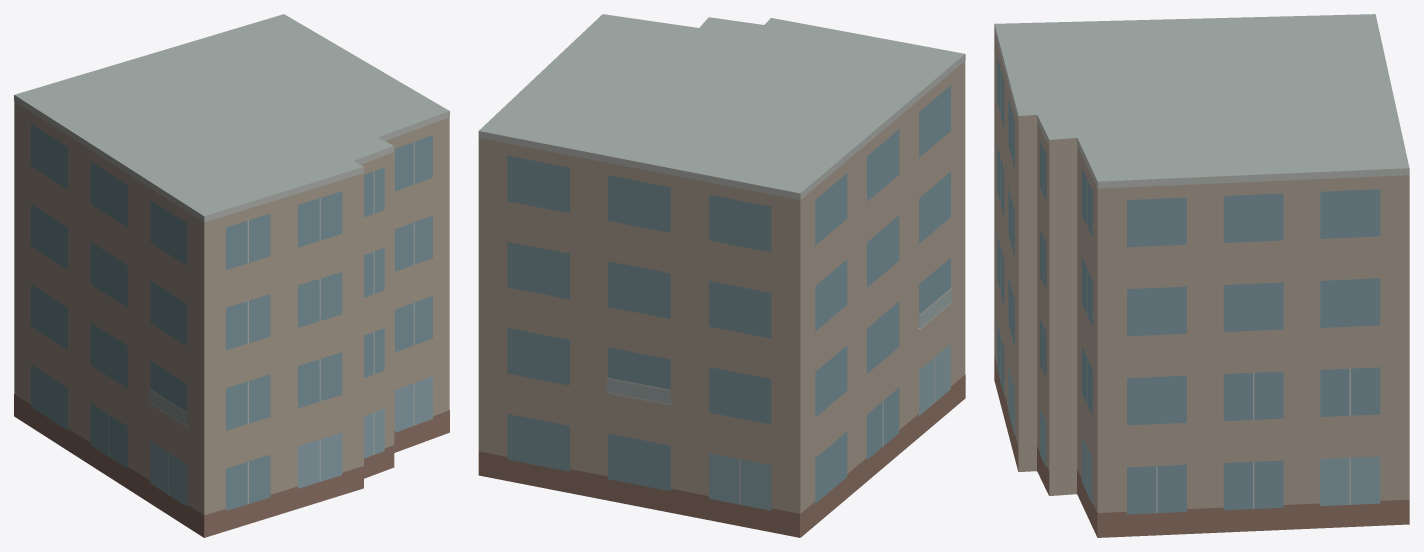
File: survey-upis-32630584.glb
3 views of the same model, side by side, from view 1: azimuth 30°, elevation 25°; view 2: azimuth 150°, elevation 25°; view 3: azimuth 270°, elevation 25° (orthographic). The views are drawn at different scales.
Visible parts, largest first — view 1: survey-upis-32630584.tmp; view 2: survey-upis-32630584.tmp; view 3: survey-upis-32630584.tmp.
Part boxes in pixels (x1=…): survey-upis-32630584.tmp: x1=14, y1=14, x2=449, y2=537; survey-upis-32630584.tmp: x1=478, y1=14, x2=965, y2=537; survey-upis-32630584.tmp: x1=994, y1=14, x2=1409, y2=537.
Bounding box in the file's own units: 12.52 × 12.4 × 13.11.
